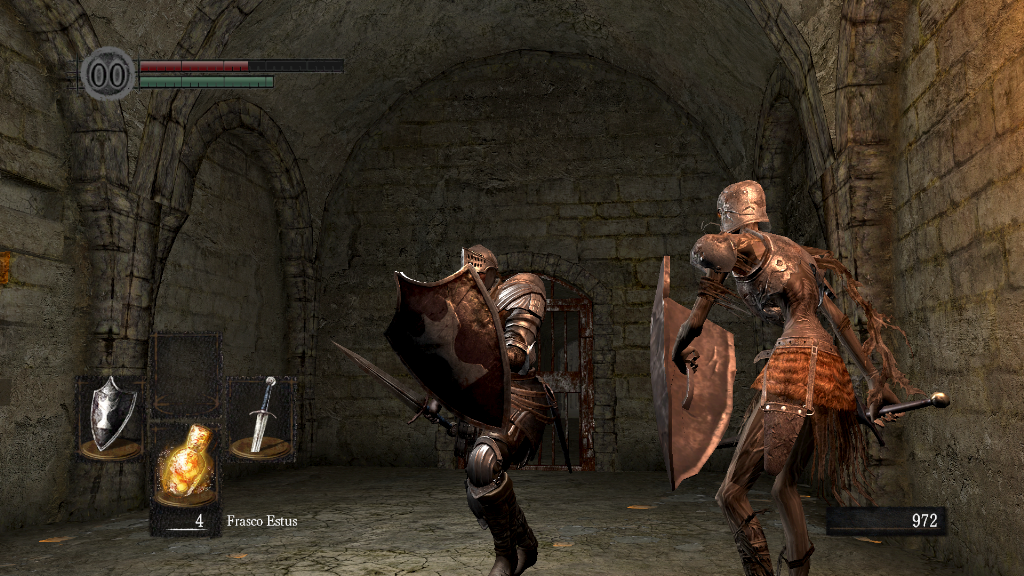health: (138, 58, 343, 71)
humanity: (80, 45, 136, 102)
player: (328, 244, 555, 576)
souls: (825, 506, 945, 536)
stamina: (138, 74, 274, 88)
undeadSoldier: (653, 180, 911, 574)
